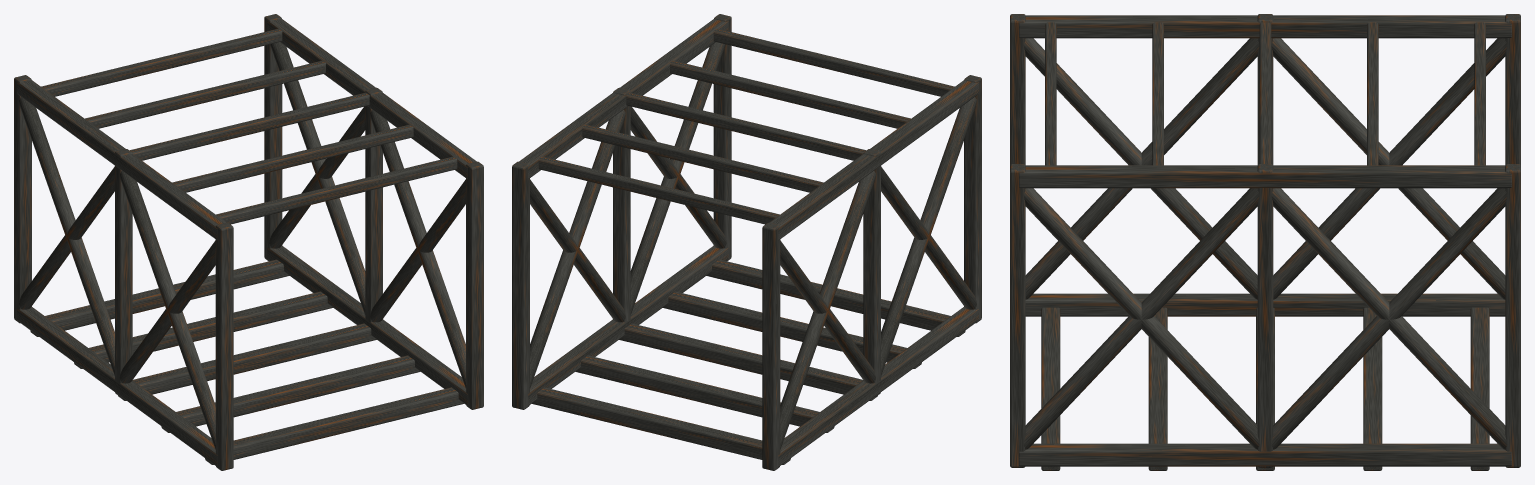
Rendered from jembatan_modular.glb.
3 renders of one model, left to right at view 1: azimuth 30°, elevation 25°; view 2: azimuth 150°, elevation 25°; view 3: azimuth 270°, elevation 25°, orthographic. The views are drawn at different scales.
Visible parts, largest first — view 1: Sabuk.001, Sabuk, Tiang, Balok, Sabuk.002, Tiang.003, Sabuk.003, Balok.001, Balok.002, Diagonal, Diagonal.002, Diagonal.004 (+16 smaller); view 2: Sabuk.001, Sabuk, Tiang.002, Balok.004, Sabuk.002, Tiang.005, Sabuk.003, Balok.003, Balok.002, Diagonal.003, Diagonal.001, Diagonal.007 (+16 smaller); view 3: Sabuk.003, Sabuk.002, Sabuk.001, Sabuk, Diagonal.004, Diagonal.007, Diagonal.005, Diagonal.006, Diagonal, Diagonal.003, Diagonal.001, Diagonal.002 (+16 smaller).
Part boxes in pixels (x1,y1,x2,y2): Sabuk.001: (17, 80, 226, 240); Sabuk: (17, 307, 217, 466); Tiang: (215, 222, 233, 470); Balok: (205, 387, 463, 464); Sabuk.002: (267, 245, 467, 405); Tiang.003: (466, 161, 483, 409); Sabuk.003: (267, 19, 476, 178); Balok.001: (161, 355, 420, 432); Balok.002: (118, 323, 376, 400); Diagonal: (120, 171, 215, 449); Diagonal.002: (19, 97, 114, 375); Diagonal.004: (370, 109, 466, 388); Sabuk.001: (769, 80, 978, 240); Sabuk: (778, 307, 978, 466); Tiang.002: (762, 222, 780, 470); Balok.004: (532, 387, 790, 464); Sabuk.002: (528, 245, 728, 405); Tiang.005: (512, 161, 529, 409); Sabuk.003: (519, 19, 728, 178); Balok.003: (575, 355, 834, 432); Balok.002: (619, 323, 877, 400); Diagonal.003: (780, 171, 875, 449); Diagonal.001: (881, 97, 976, 375); Diagonal.007: (529, 109, 625, 388); Sabuk.003: (1019, 165, 1511, 188); Sabuk.002: (1019, 443, 1511, 466); Sabuk.001: (1019, 15, 1511, 38); Sabuk: (1025, 293, 1505, 316); Diagonal.004: (1023, 188, 1259, 449); Diagonal.007: (1271, 188, 1507, 449); Diagonal.005: (1023, 188, 1259, 449); Diagonal.006: (1271, 188, 1507, 449); Diagonal: (1025, 38, 1259, 299); Diagonal.003: (1271, 38, 1505, 299); Diagonal.001: (1023, 38, 1257, 299); Diagonal.002: (1273, 38, 1507, 299).
Size of the model in its own units: 4.53 by 4.05 by 6.19.
1 material, 1 textured.
